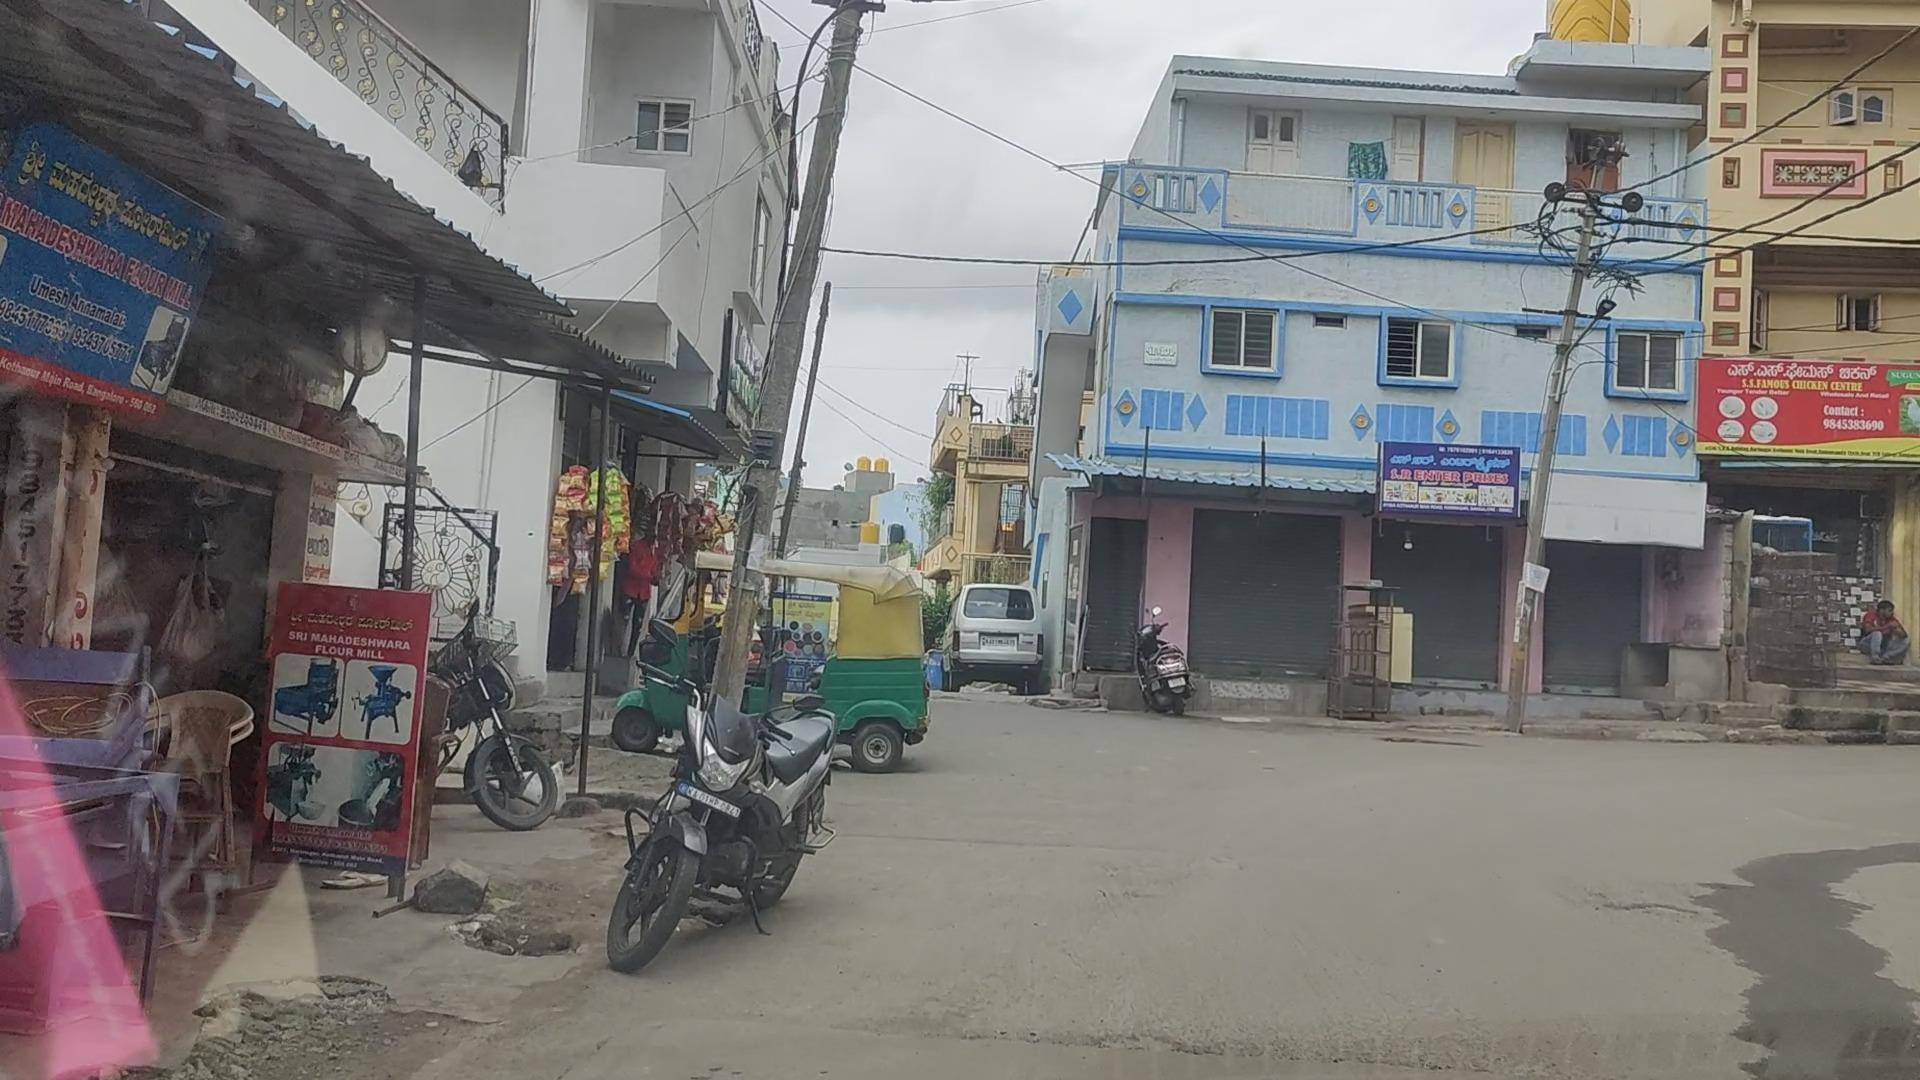RoadDamages: (848, 981, 1493, 1080)
